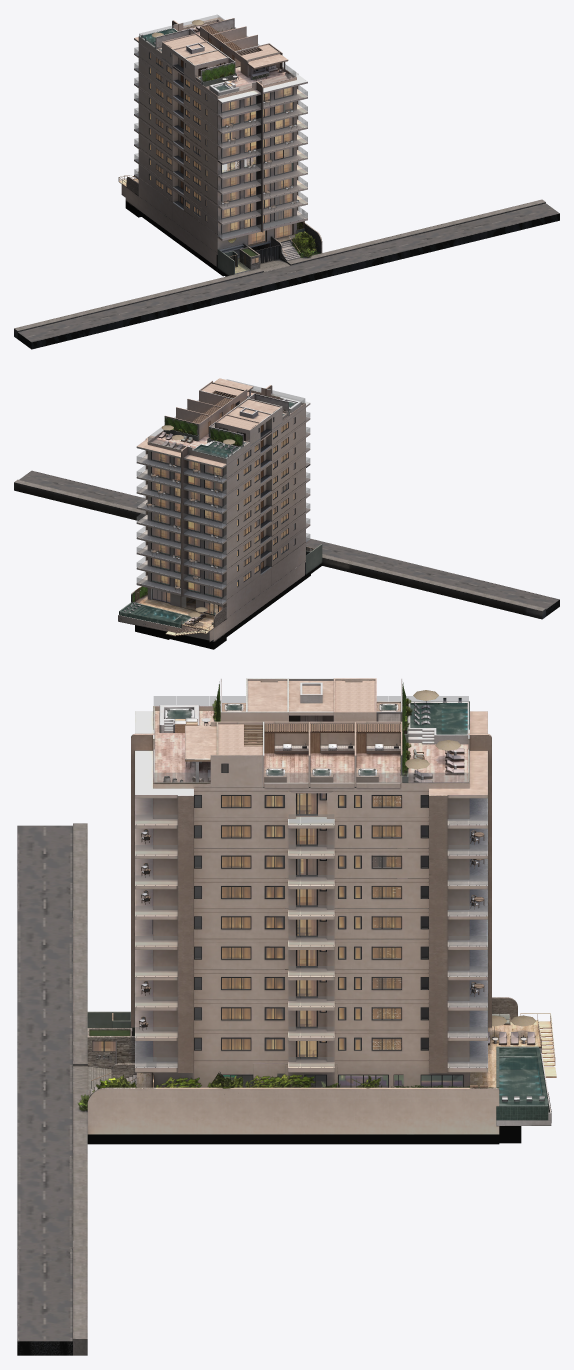
File: Delmar_Torre_V4_light.glb
The picture shows the model from 3 angles, top to bottom: view 1: azimuth 30°, elevation 25°; view 2: azimuth 150°, elevation 25°; view 3: azimuth 270°, elevation 25°; orthographic projection. The views are drawn at different scales.
Parts seen in each view (by area): view 1: delmar_arq_principal.011, delmar_arq_3.004, delmar_cristales.006, delmar_cristales_ventanas_noche, delmar_canceleria.005, delmar_arq_6.003, delmar_arq_4.005, delmar_pisos.010, delmar_Veg.002, delmar_opacity.002, Delmar__Amb_Balcones_light; view 2: delmar_arq_principal.011, delmar_arq_3.004, delmar_cristales.006, delmar_pisos.010, delmar_cristales_ventanas_noche, delmar_arq_4.005, delmar_arq_6.003, delmar_canceleria.005, delmar_agua.005, delmar_Veg.002, delmar_ambiente.002, delmar_opacity.002 (+1 smaller); view 3: delmar_arq_principal.011, delmar_arq_3.004, delmar_cristales.006, delmar_arq_6.003, delmar_pisos.010, delmar_cristales_ventanas_noche, delmar_arq_4.005, delmar_canceleria.005, delmar_agua.005, delmar_ambiente.002, delmar_Veg.002, delmar_extra_ambient.001 (+2 smaller).
Part boxes in pixels (<box>): delmar_arq_principal.011: <box>134,17,307,264</box>; delmar_arq_3.004: <box>14,20,559,349</box>; delmar_cristales.006: <box>134,14,307,263</box>; delmar_cristales_ventanas_noche: <box>149,53,292,263</box>; delmar_canceleria.005: <box>118,52,304,267</box>; delmar_arq_6.003: <box>125,47,293,276</box>; delmar_arq_4.005: <box>139,18,285,206</box>; delmar_pisos.010: <box>121,27,307,254</box>; delmar_Veg.002: <box>166,20,317,257</box>; delmar_opacity.002: <box>174,60,235,243</box>; Delmar__Amb_Balcones_light: <box>221,99,299,210</box>; delmar_arq_principal.011: <box>136,381,310,617</box>; delmar_arq_3.004: <box>14,385,559,649</box>; delmar_cristales.006: <box>136,379,310,614</box>; delmar_pisos.010: <box>137,392,309,641</box>; delmar_cristales_ventanas_noche: <box>152,417,294,613</box>; delmar_arq_4.005: <box>118,383,301,628</box>; delmar_arq_6.003: <box>119,378,322,648</box>; delmar_canceleria.005: <box>137,417,314,636</box>; delmar_agua.005: <box>120,402,295,627</box>; delmar_Veg.002: <box>132,396,285,601</box>; delmar_ambiente.002: <box>124,395,248,625</box>; delmar_opacity.002: <box>260,425,270,573</box>; delmar_arq_principal.011: <box>89,678,487,1087</box>; delmar_arq_3.004: <box>17,682,517,1355</box>; delmar_cristales.006: <box>92,696,487,1087</box>; delmar_arq_6.003: <box>87,708,551,1144</box>; delmar_pisos.010: <box>135,711,541,1087</box>; delmar_cristales_ventanas_noche: <box>92,793,462,1087</box>; delmar_arq_4.005: <box>159,678,551,1122</box>; delmar_canceleria.005: <box>91,763,556,1093</box>; delmar_agua.005: <box>164,704,548,1105</box>; delmar_ambiente.002: <box>163,690,544,1101</box>; delmar_Veg.002: <box>77,682,498,1111</box>; delmar_extra_ambient.001: <box>222,703,400,782</box>.
Bounding box in the file's own units: 120 × 42.89 × 53.19.
17 materials, 16 textured.
